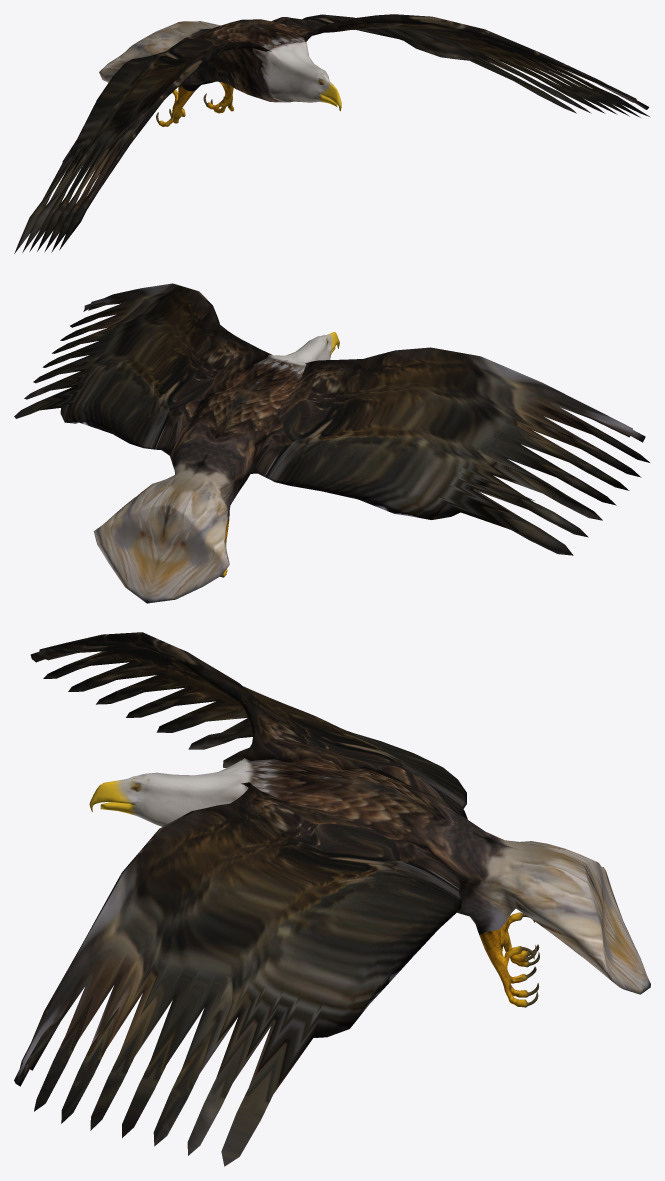
File: Eagle-original_000008.obj
3 renders of one model, top to bottom at view 1: azimuth 30°, elevation 25°; view 2: azimuth 150°, elevation 25°; view 3: azimuth 270°, elevation 25°, orthographic. The views are drawn at different scales.
Parts seen in each view (by area): view 1: Flugel_Plane.003; view 2: Flugel_Plane.003; view 3: Flugel_Plane.003.
Part boxes in pixels (bbox=[...]): Flugel_Plane.003: bbox=[14, 14, 649, 253]; Flugel_Plane.003: bbox=[14, 283, 649, 603]; Flugel_Plane.003: bbox=[14, 632, 650, 1166].
Size of the model in its own units: 10.11 by 2.8 by 6.45.
1 material, 1 textured.
